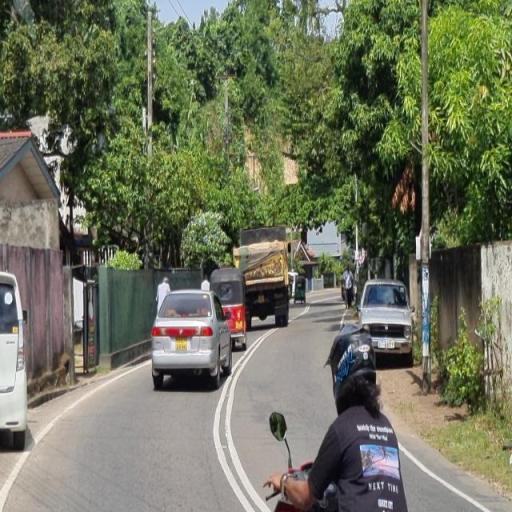double_white_line: (212, 328, 270, 511), (399, 441, 490, 512)
